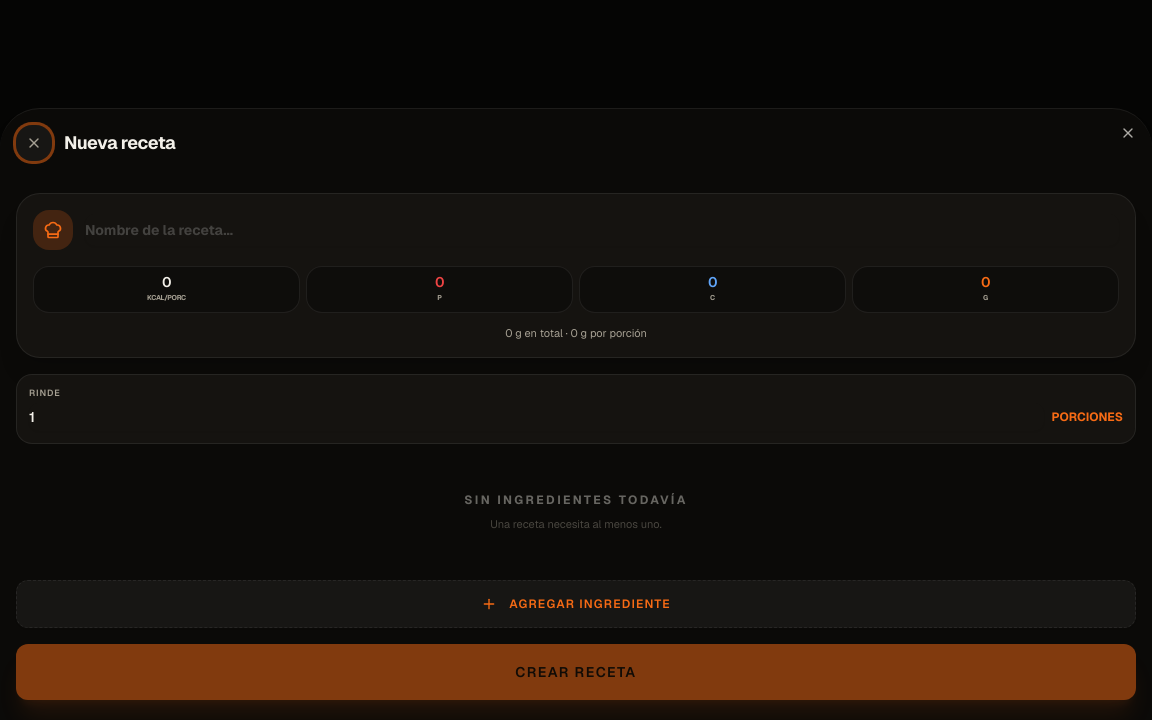
Test case: RecipeEditorSheet — creating › removes an ingredient
This screenshot has width=1152, height=720.
Click the button "Agregar Ingrediente".
click(576, 604)  # box [16, 580, 1136, 628]
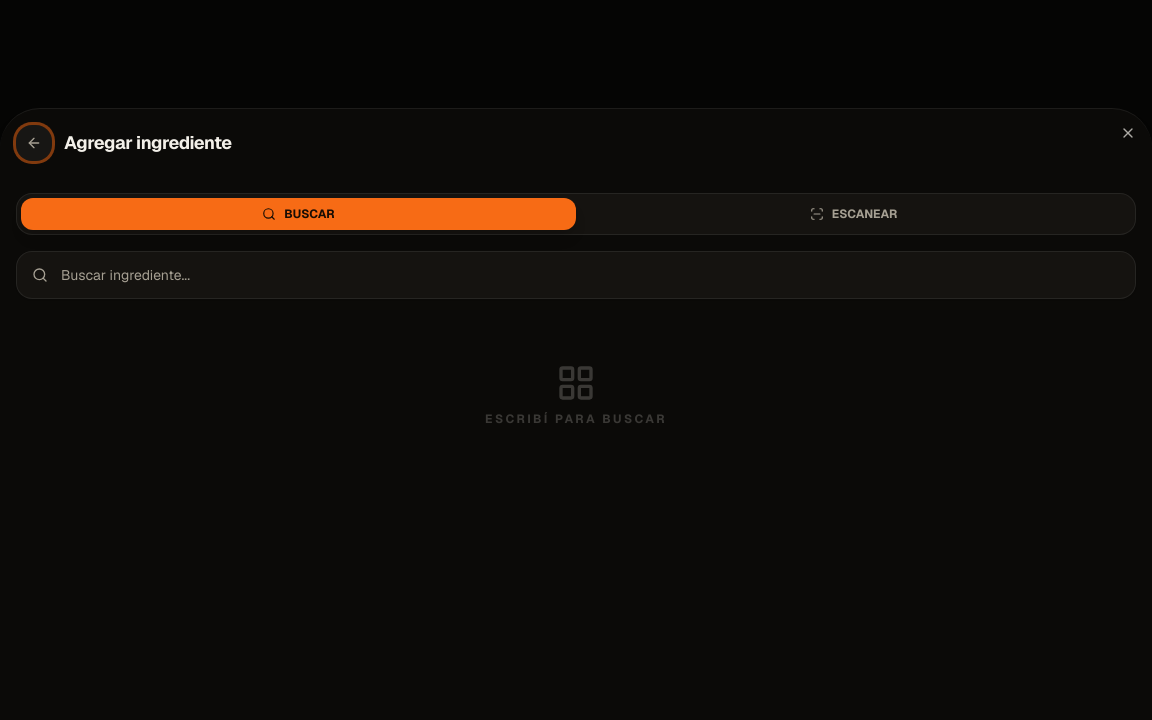
Type "len" into the field with placeholder "Buscar ingrediente...".
click(576, 275); type("len")  # box [16, 251, 1136, 299]
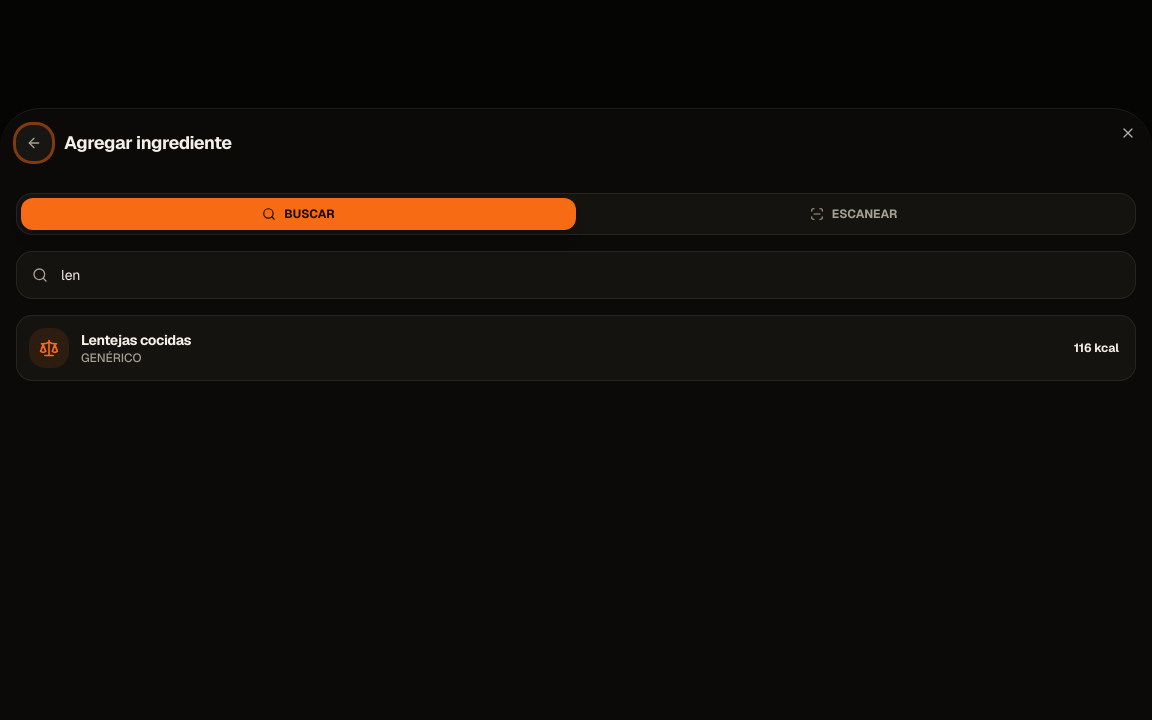
Click the heading "Lentejas cocidas".
click(136, 340)  # box [81, 330, 191, 350]
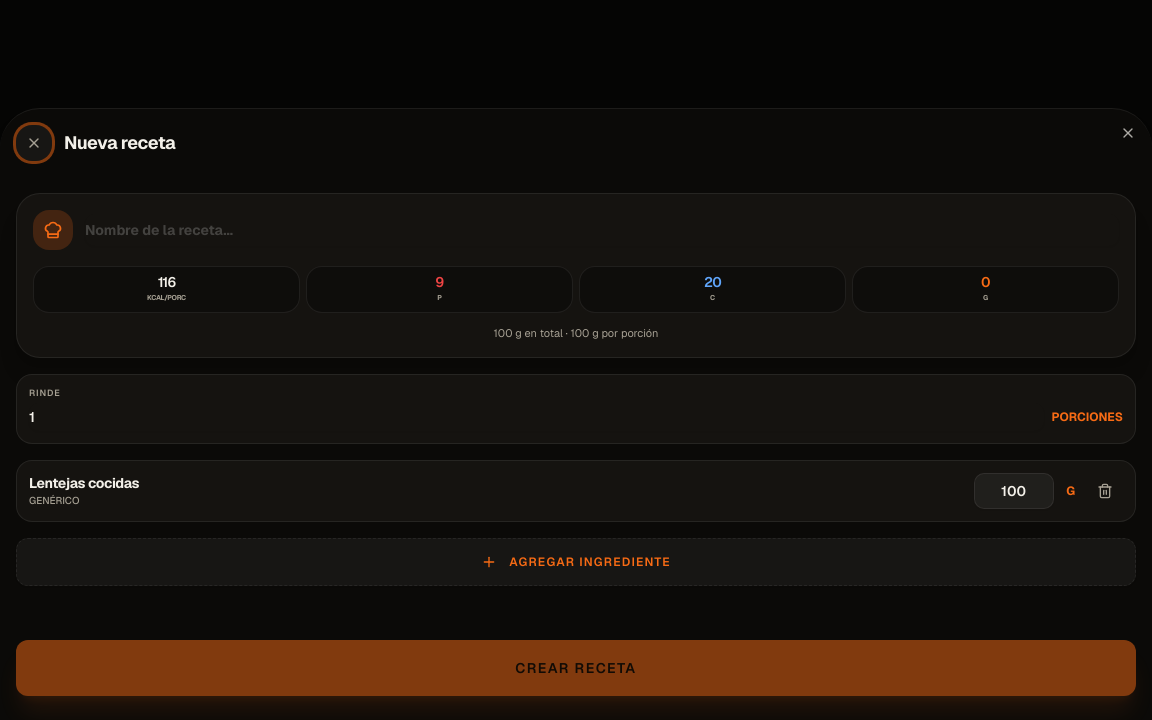
Click the button named "Quitar Lentejas cocidas".
click(1105, 490)  # box [1087, 472, 1123, 508]
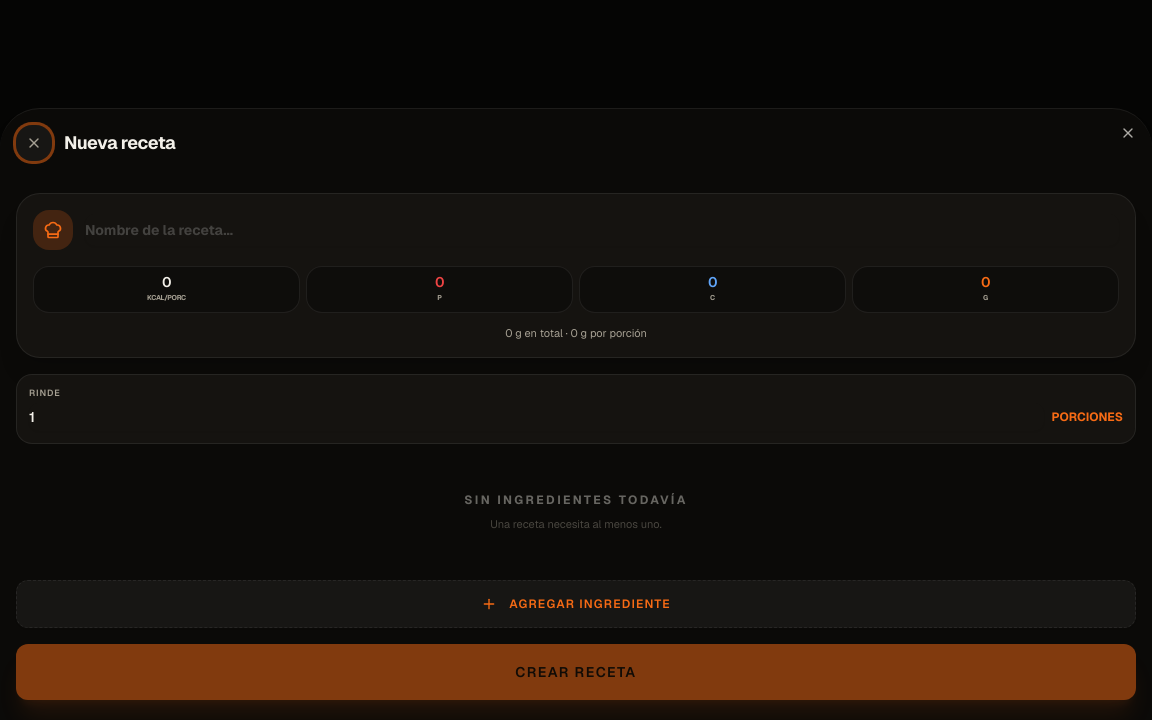
Expected: the heading "Lentejas cocidas" is gone
